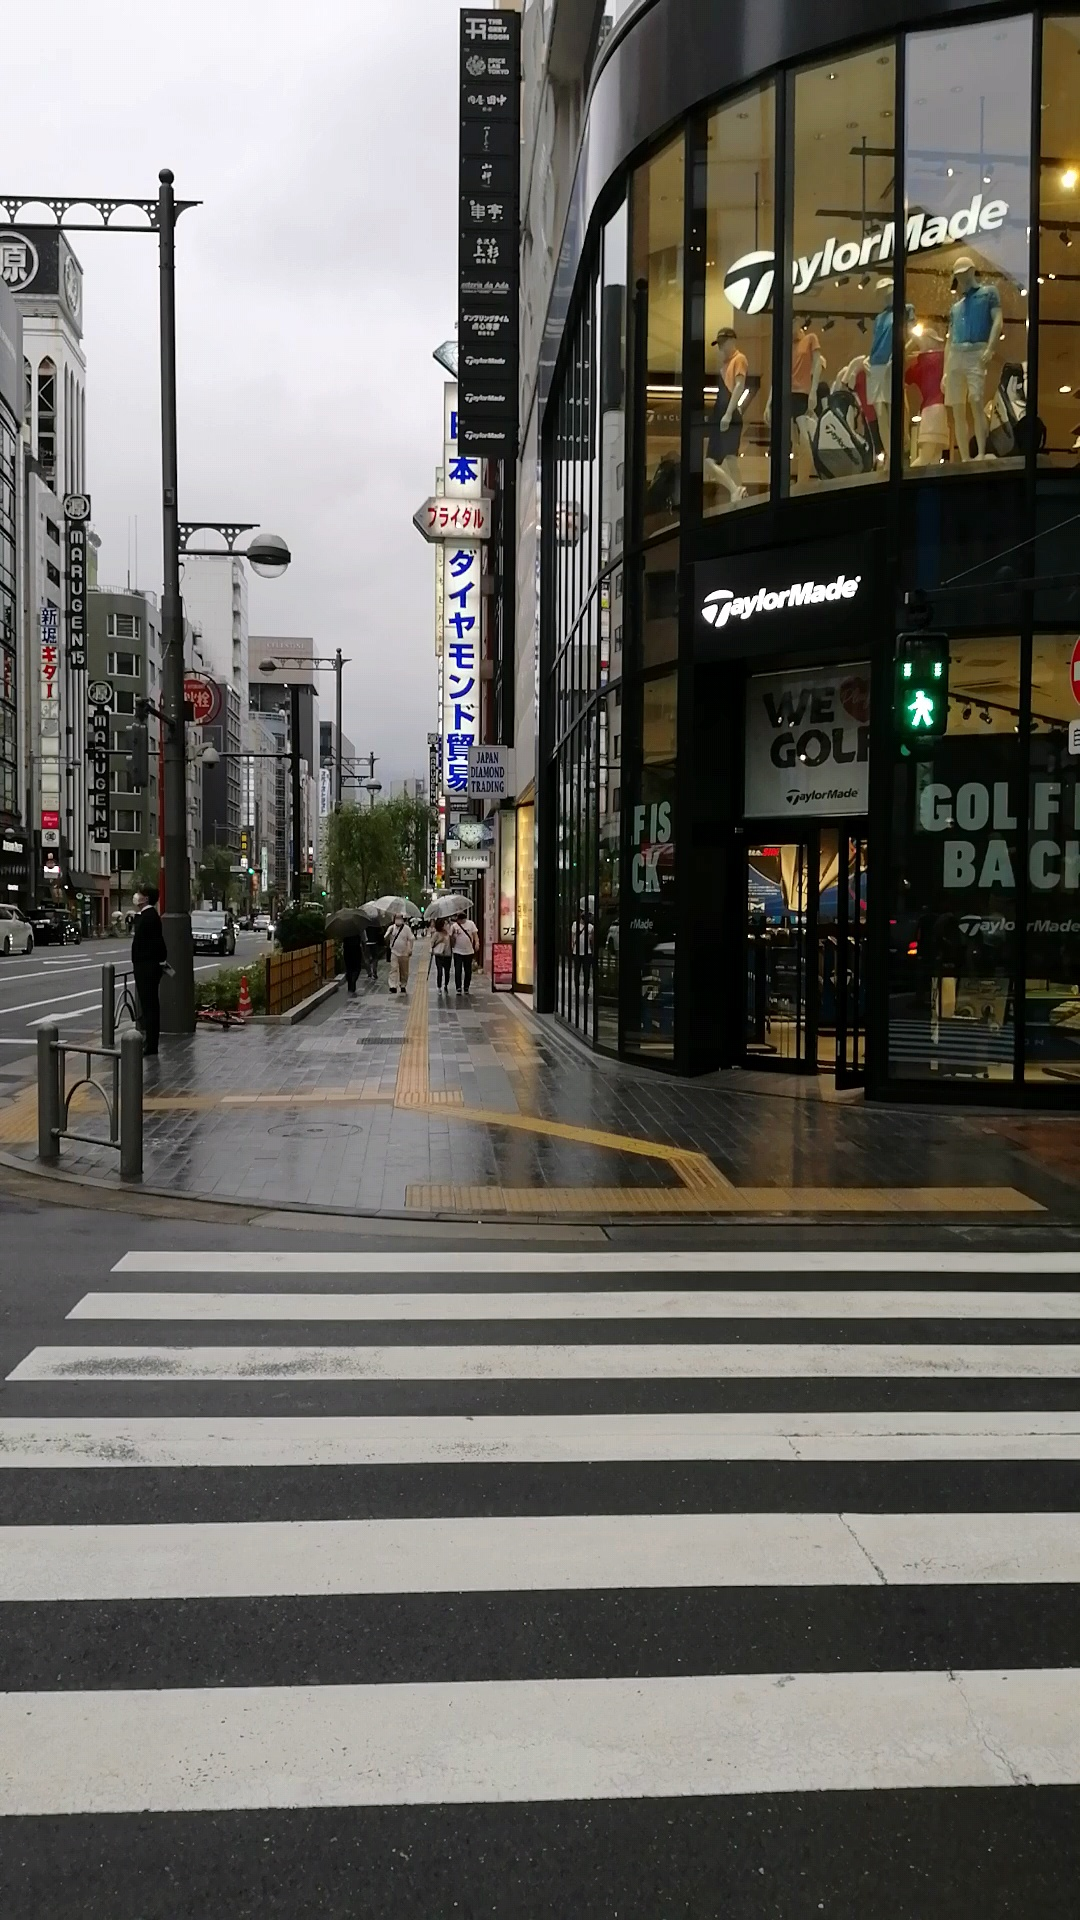green: (891, 630, 948, 737)
